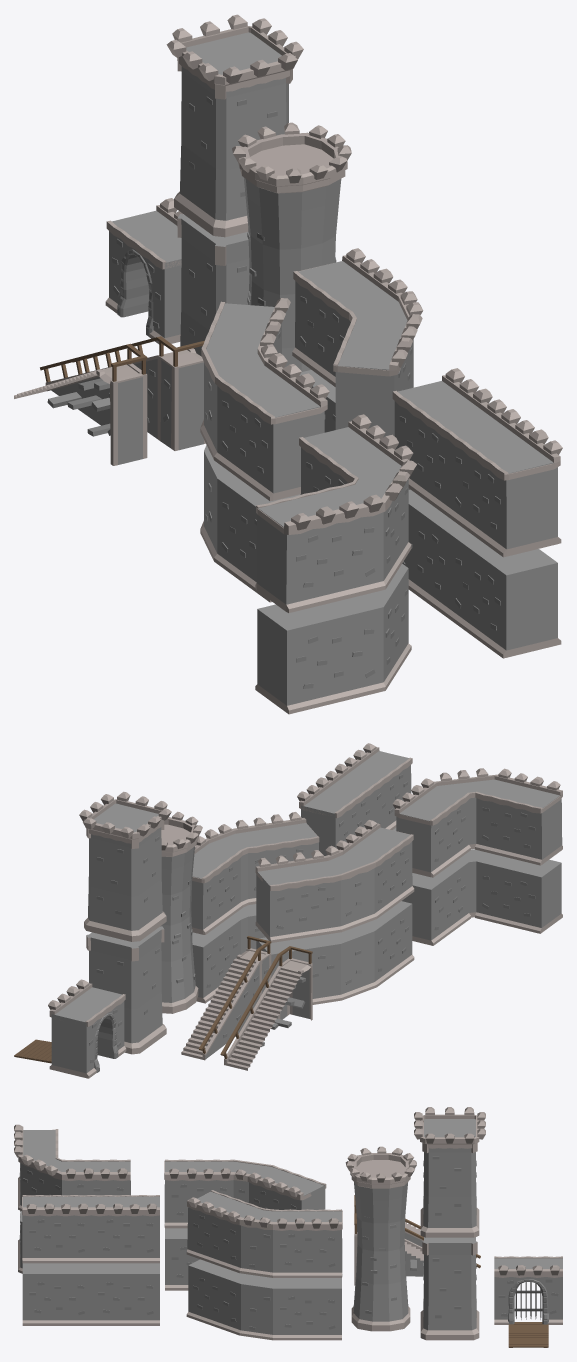
The model's file is Castle_LowPoly(Modular).fbx.
The picture shows the model from 3 angles, top to bottom: view 1: azimuth 30°, elevation 25°; view 2: azimuth 150°, elevation 25°; view 3: azimuth 270°, elevation 25°; orthographic projection. The views are drawn at different scales.
Visible parts, largest first — view 1: Cube.020, Cube.019, Cube.013, Cube.018, Cube.017, Plane.001, Cube.024, Cube.021, Cube.014, Cube.008, Cube.025, Cube.007 (+1 smaller); view 2: Cube.020, Cube.018, Cube.013, Cube.024, Cube.017, Cube.023, Cube.019, Plane.001, Cube.025, Cube.014, Cube.008, Cube.007 (+2 smaller); view 3: Cube.017, Plane.001, Cube.022, Cube.019, Cube.021, Cube.013, Cube.018, Cube.025, Cube.020, Cube.014, Cube.023, Cube.015 (+3 smaller).
Part boxes in pixels (x1,y1,x2,y2): Cube.020: [255, 414, 416, 612]; Cube.019: [392, 368, 562, 557]; Cube.013: [166, 14, 303, 237]; Cube.018: [200, 298, 329, 501]; Cube.017: [292, 248, 423, 437]; Plane.001: [232, 122, 351, 371]; Cube.024: [255, 563, 411, 714]; Cube.021: [402, 489, 561, 658]; Cube.014: [105, 198, 183, 345]; Cube.008: [14, 343, 147, 465]; Cube.025: [177, 214, 249, 356]; Cube.007: [72, 336, 205, 450]; Cube.020: [392, 768, 562, 877]; Cube.018: [255, 820, 414, 942]; Cube.013: [79, 791, 171, 941]; Cube.024: [402, 849, 562, 945]; Cube.017: [191, 812, 319, 934]; Cube.023: [256, 901, 414, 1004]; Cube.019: [297, 743, 412, 855]; Plane.001: [160, 811, 202, 1013]; Cube.025: [86, 926, 166, 1054]; Cube.014: [48, 979, 126, 1078]; Cube.008: [220, 946, 312, 1070]; Cube.007: [181, 936, 271, 1060]; Cube.017: [186, 1190, 342, 1277]; Plane.001: [345, 1146, 416, 1331]; Cube.022: [186, 1259, 341, 1340]; Cube.019: [22, 1195, 159, 1263]; Cube.021: [22, 1263, 159, 1325]; Cube.013: [414, 1107, 485, 1237]; Cube.018: [164, 1159, 326, 1228]; Cube.025: [420, 1237, 479, 1340]; Cube.020: [14, 1124, 130, 1210]; Cube.014: [494, 1256, 562, 1324]; Cube.023: [165, 1228, 199, 1290]; Cube.015: [508, 1322, 548, 1347].
Bounding box in the file's own units: 5536 × 4741 × 11174.
